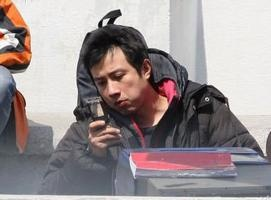person without safety: (73, 26, 172, 137)
